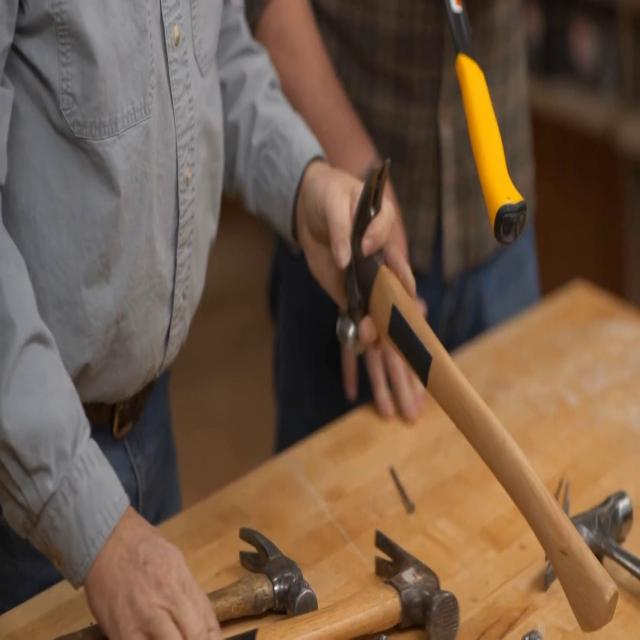hammer: (336, 159, 617, 633), (253, 530, 459, 640), (206, 527, 318, 620)
